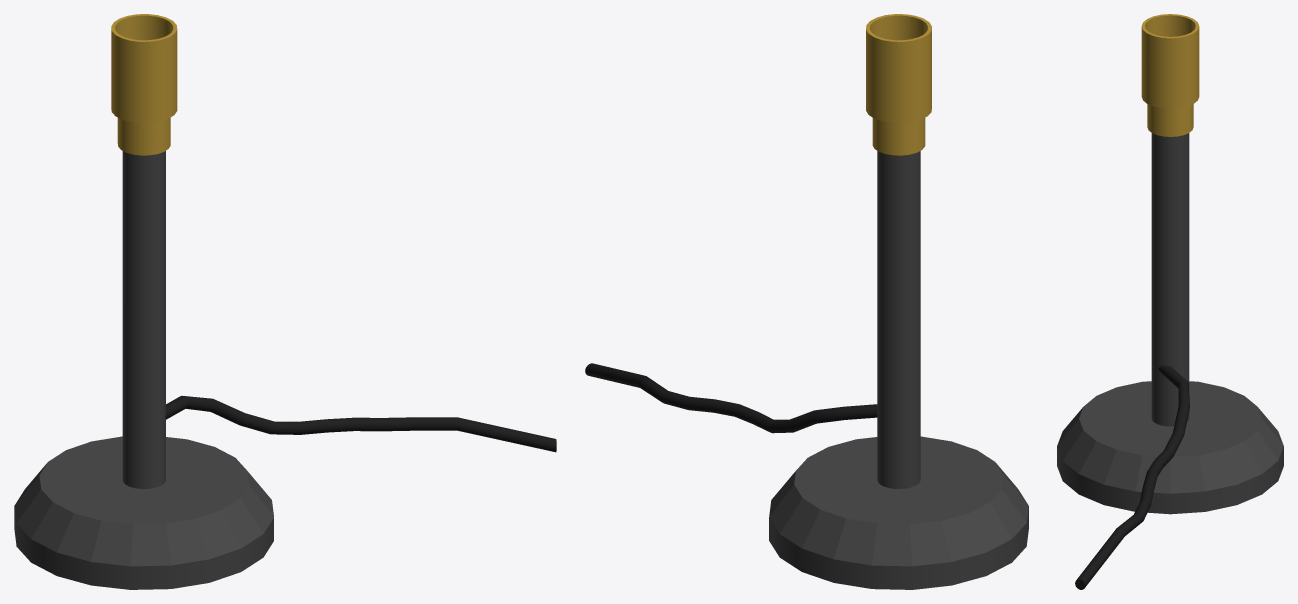
The model's file is Bunson Burner.fbx.
The picture shows the model from 3 angles, left to right: view 1: azimuth 30°, elevation 25°; view 2: azimuth 150°, elevation 25°; view 3: azimuth 270°, elevation 25°; orthographic projection. The views are drawn at different scales.
Visible parts, largest first — view 1: pCylinder44; view 2: pCylinder44; view 3: pCylinder44.
Part boxes in pixels (box(x1,y1,x2,y2)): pCylinder44: box(14, 14, 556, 589); pCylinder44: box(585, 14, 1028, 589); pCylinder44: box(1057, 14, 1283, 589).
Bounding box in the file's own units: 2.87 × 2.92 × 1.37.
